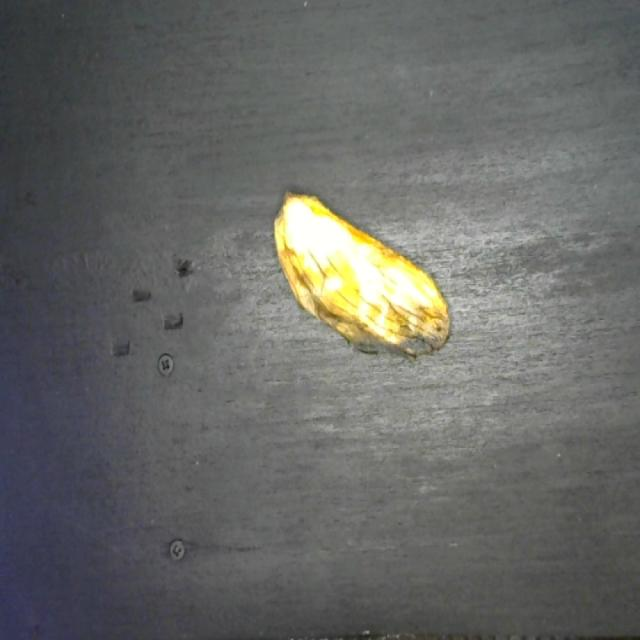biodegradable: (270, 181, 455, 364)
